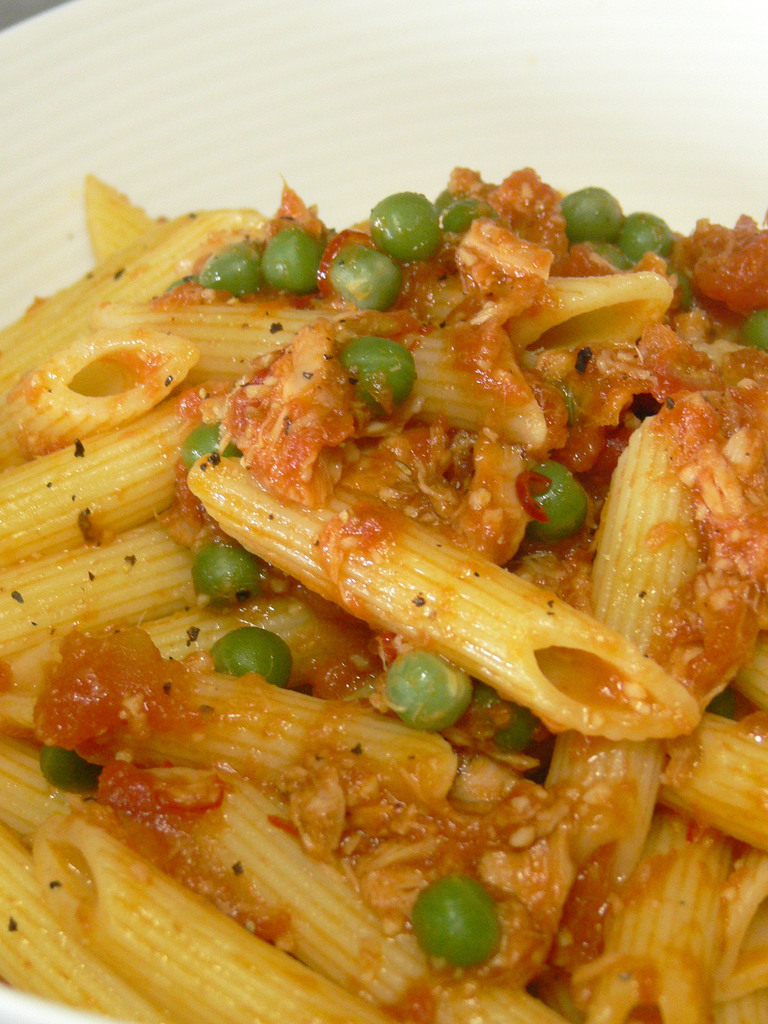pasta: (0, 170, 767, 1023)
